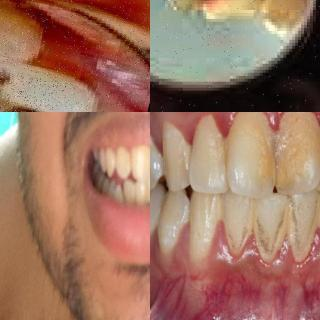Gum Swelling: (188, 220, 320, 274), (168, 112, 236, 144)
calculus: (223, 112, 274, 196), (274, 112, 320, 190), (193, 119, 223, 191), (274, 203, 298, 263), (303, 199, 320, 261), (244, 195, 260, 247), (134, 144, 150, 172), (118, 190, 132, 208), (134, 187, 146, 207), (145, 179, 150, 203)
cavities: (0, 66, 50, 112)
stains: (288, 193, 314, 267), (257, 198, 285, 264), (224, 205, 250, 265)
